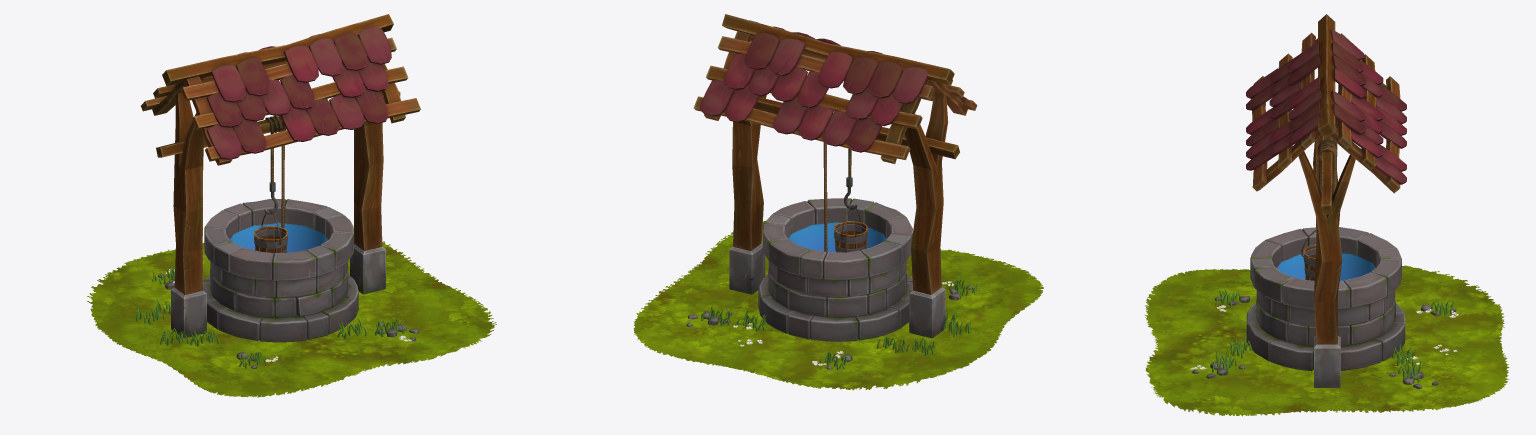
The model's file is Waterwell.fbx.
3 renders of one model, left to right at view 1: azimuth 30°, elevation 25°; view 2: azimuth 150°, elevation 25°; view 3: azimuth 270°, elevation 25°, orthographic.
Parts seen in each view (by area): view 1: Waterwell, Ground, Grass, Fog; view 2: Waterwell, Ground, Grass, Fog; view 3: Waterwell, Ground, Grass, Fog.
Boxes of the visible parts, x1,y1,x2,y2 form: Waterwell: (141,14,420,342); Ground: (87,228,496,397); Grass: (136,268,419,368); Fog: (230,222,327,252); Waterwell: (693,14,977,341); Ground: (633,221,1043,390); Grass: (686,279,977,369); Fog: (788,222,885,252); Waterwell: (1246,14,1406,387); Ground: (1144,265,1509,416); Grass: (1192,288,1456,388); Fog: (1277,253,1375,281).
Bounding box in the file's own units: 1929 × 1487 × 1929.
